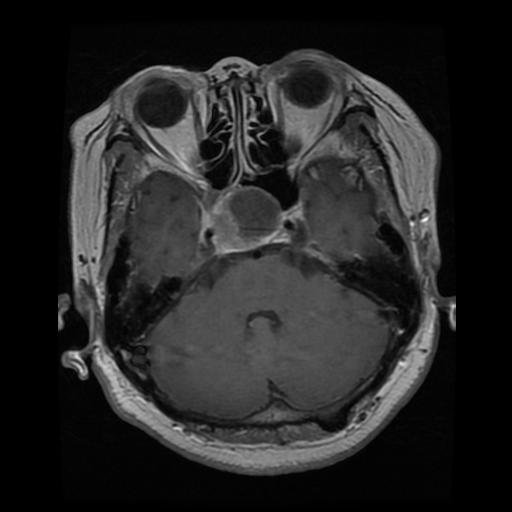Pituirity_tumour: (201, 186, 283, 253)
